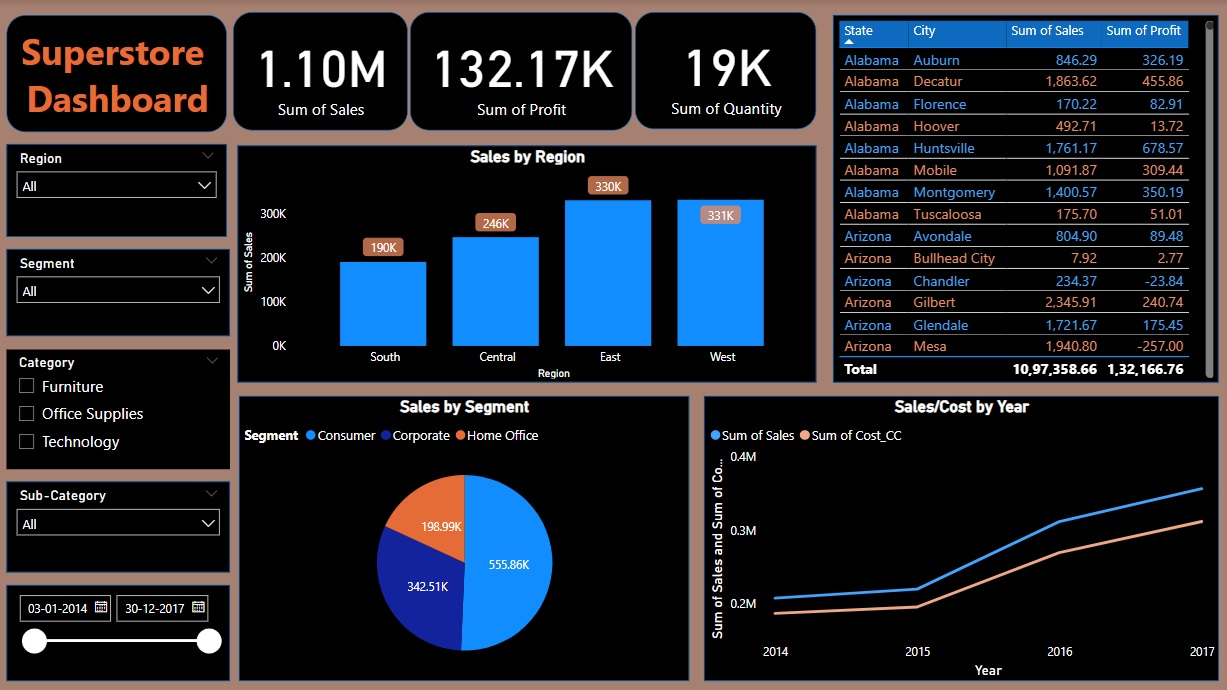

Layout of this report page (visuals, bound fields, positions):
{"tool":"powerbi","page":{"name":"Overview","canvas":[1280,720],"ordinal":0},"visuals":[{"type":"clusteredColumnChart","title":"Sales by Region","fields":{"Category":["Sample - Superstore.Region"],"Y":["Sum(Sample - Superstore.Sales)"]},"box":[248.3,151.5,602.9,246.8],"z":0},{"type":"textbox","box":[7.6,15.6,229.6,121.8],"z":1000},{"type":"lineChart","title":"Sales/Cost by Year","fields":{"Category":["Sample - Superstore.Order Date.Variation.Date Hierarchy.Year","Sample - Superstore.Order Date.Variation.Date Hierarchy.Quarter","Sample - Superstore.Order Date.Variation.Date Hierarchy.Month","Sample - Superstore.Order Date.Variation.Date Hierarchy.Day"],"Y":["Sum(Sample - Superstore.Sales)","Sum(Sample - Superstore.Cost_CC)"]},"box":[734.1,412.3,535.7,296.7],"z":2000},{"type":"card","fields":{"Values":["Sum(Sample - Superstore.Quantity)"]},"box":[662.2,13.3,189,121.8],"z":3000},{"type":"tableEx","fields":{"Values":["Sample - Superstore.State","Sample - Superstore.City","Sum(Sample - Superstore.Sales)","Sum(Sample - Superstore.Profit)"]},"box":[868.4,15.6,401.4,382.6],"z":4000},{"type":"pieChart","title":"Sales by Segment","fields":{"Category":["Sample - Superstore.Segment"],"Y":["Sum(Sample - Superstore.Sales)"]},"box":[249.9,412.3,468.5,296.7],"z":5000},{"type":"slicer","fields":{"Values":["Sample - Superstore.Region"]},"box":[7.6,150.4,229.1,96.6],"z":6000},{"type":"slicer","fields":{"Values":["Sample - Superstore.Segment"]},"box":[7.6,259.8,232.9,90.9],"z":7000},{"type":"slicer","fields":{"Values":["Sample - Superstore.Sub-Category"]},"box":[7.6,501.5,232.9,94.7],"z":8000},{"type":"slicer","fields":{"Values":["Sample - Superstore.Order Date"]},"box":[7.6,609.1,232.7,100],"z":9000},{"type":"slicer","fields":{"Values":["Category.Category"]},"box":[7.6,363.6,232.9,125],"z":10000},{"type":"card","fields":{"Values":["Sum(Sample - Superstore.Sales)"]},"box":[243.5,13.3,181.8,123.1],"z":11000},{"type":"card","fields":{"Values":["Sum(Sample - Superstore.Profit)"]},"box":[428.2,13.3,231,123.1],"z":12000}]}

Visuals, with their boxes in screenshot pixels (x1, y1, x2, y2), scaled from the page's 1280x720 canvas onto the 1227x690 screenshot:
"Sales by Region" clusteredColumnChart: (238,145,816,382)
textbox: (7,15,227,132)
"Sales/Cost by Year" lineChart: (704,395,1217,679)
card - Sum(Sample - Superstore.Quantity): (635,13,816,129)
tableEx - Sample - Superstore.State x Sample - Superstore.City: (832,15,1217,382)
"Sales by Segment" pieChart: (240,395,689,679)
slicer - Sample - Superstore.Region: (7,144,227,237)
slicer - Sample - Superstore.Segment: (7,249,231,336)
slicer - Sample - Superstore.Sub-Category: (7,481,231,571)
slicer - Sample - Superstore.Order Date: (7,584,230,680)
slicer - Category.Category: (7,348,231,468)
card - Sum(Sample - Superstore.Sales): (233,13,408,131)
card - Sum(Sample - Superstore.Profit): (410,13,632,131)
